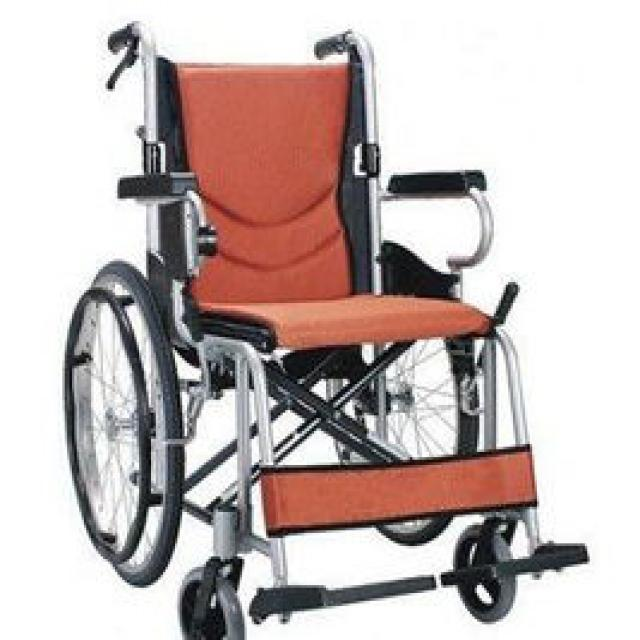wheelchair: (50, 8, 590, 635)
